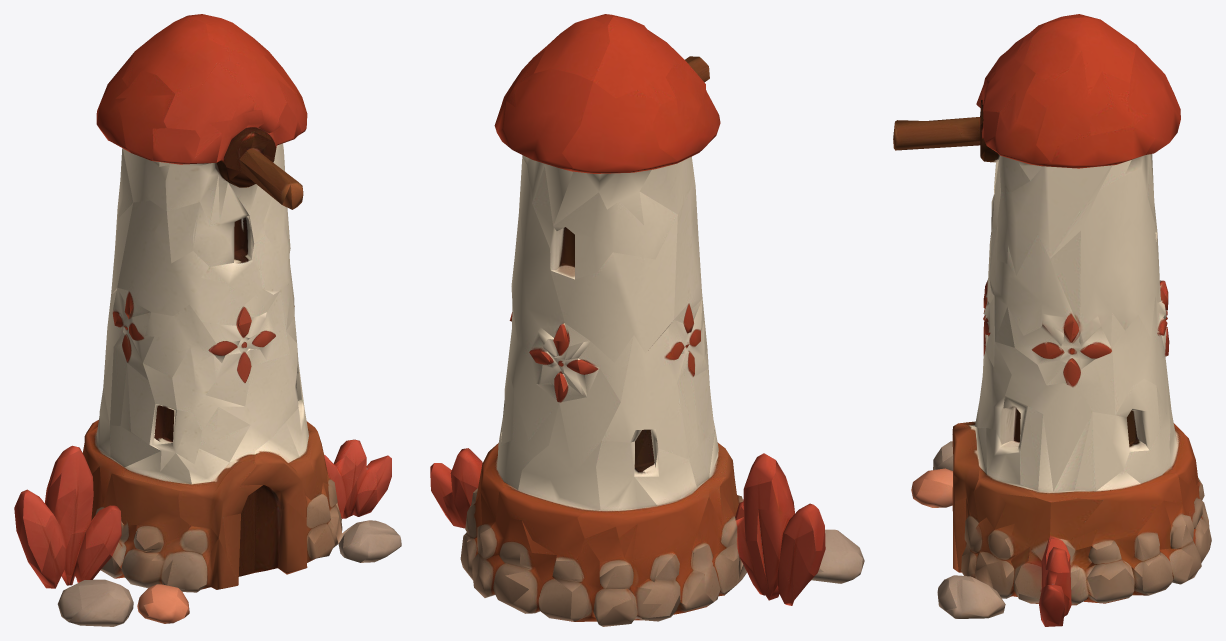
File: windmill-tower.glb
3 views of the same model, side by side, from view 1: azimuth 30°, elevation 25°; view 2: azimuth 150°, elevation 25°; view 3: azimuth 270°, elevation 25° (orthographic). The views are drawn at different scales.
Bounding box in the file's own units: 1.42 × 1.9 × 1.03.
1 material, 1 textured.
